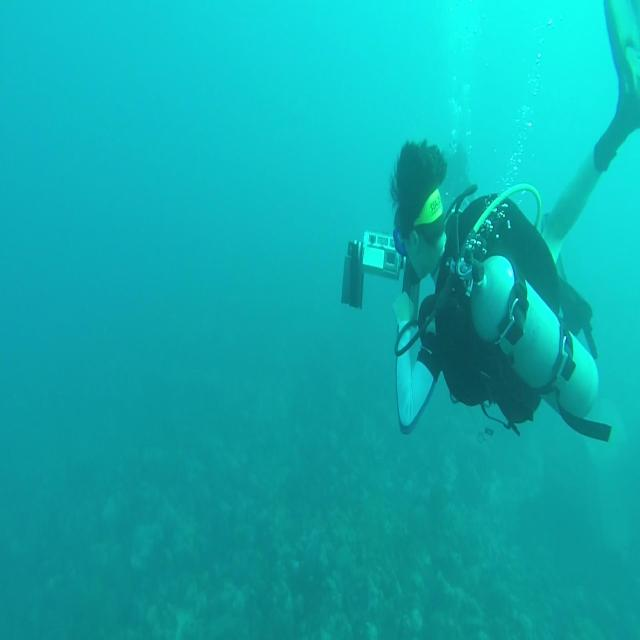human: (388, 137, 612, 444)
